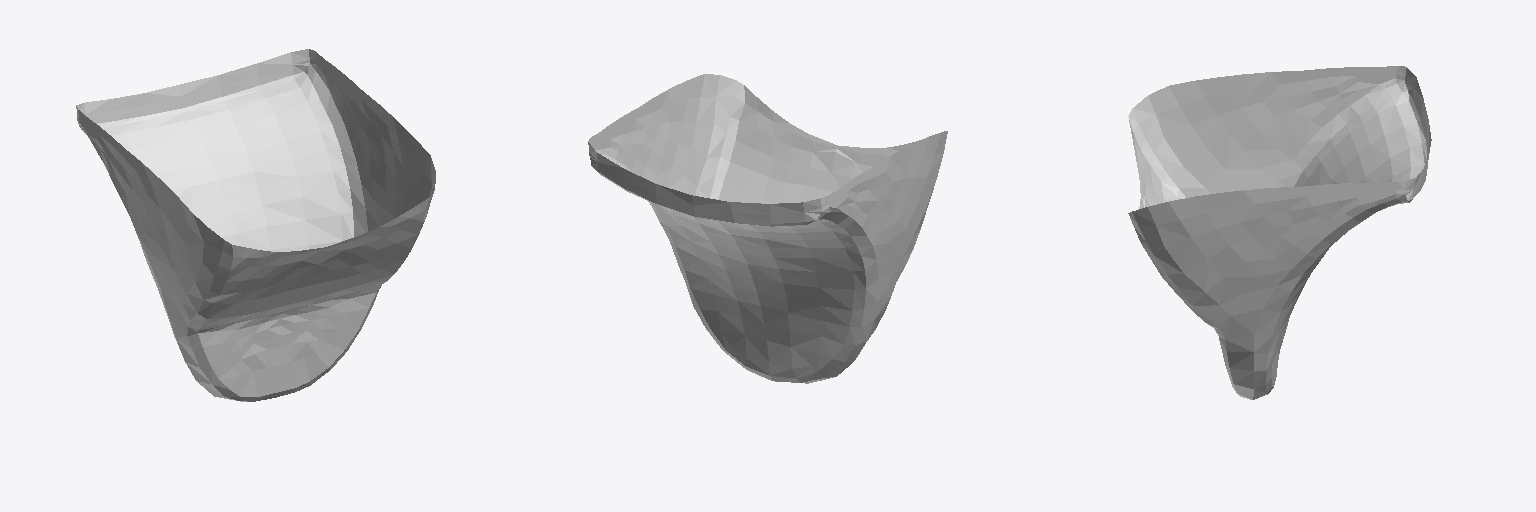
The model's file is left_trigger.obj.
The picture shows the model from 3 angles: view 1: azimuth 30°, elevation 25°; view 2: azimuth 150°, elevation 25°; view 3: azimuth 270°, elevation 25°; orthographic projection.
Visible parts, largest first — view 1: left_trigger; view 2: left_trigger; view 3: left_trigger.
Part boxes in pixels (bbox=[...]): left_trigger: bbox=[76, 49, 435, 401]; left_trigger: bbox=[588, 74, 947, 383]; left_trigger: bbox=[1128, 66, 1431, 399].
Size of the model in its own units: 0.0198 by 0.0211 by 0.0219.